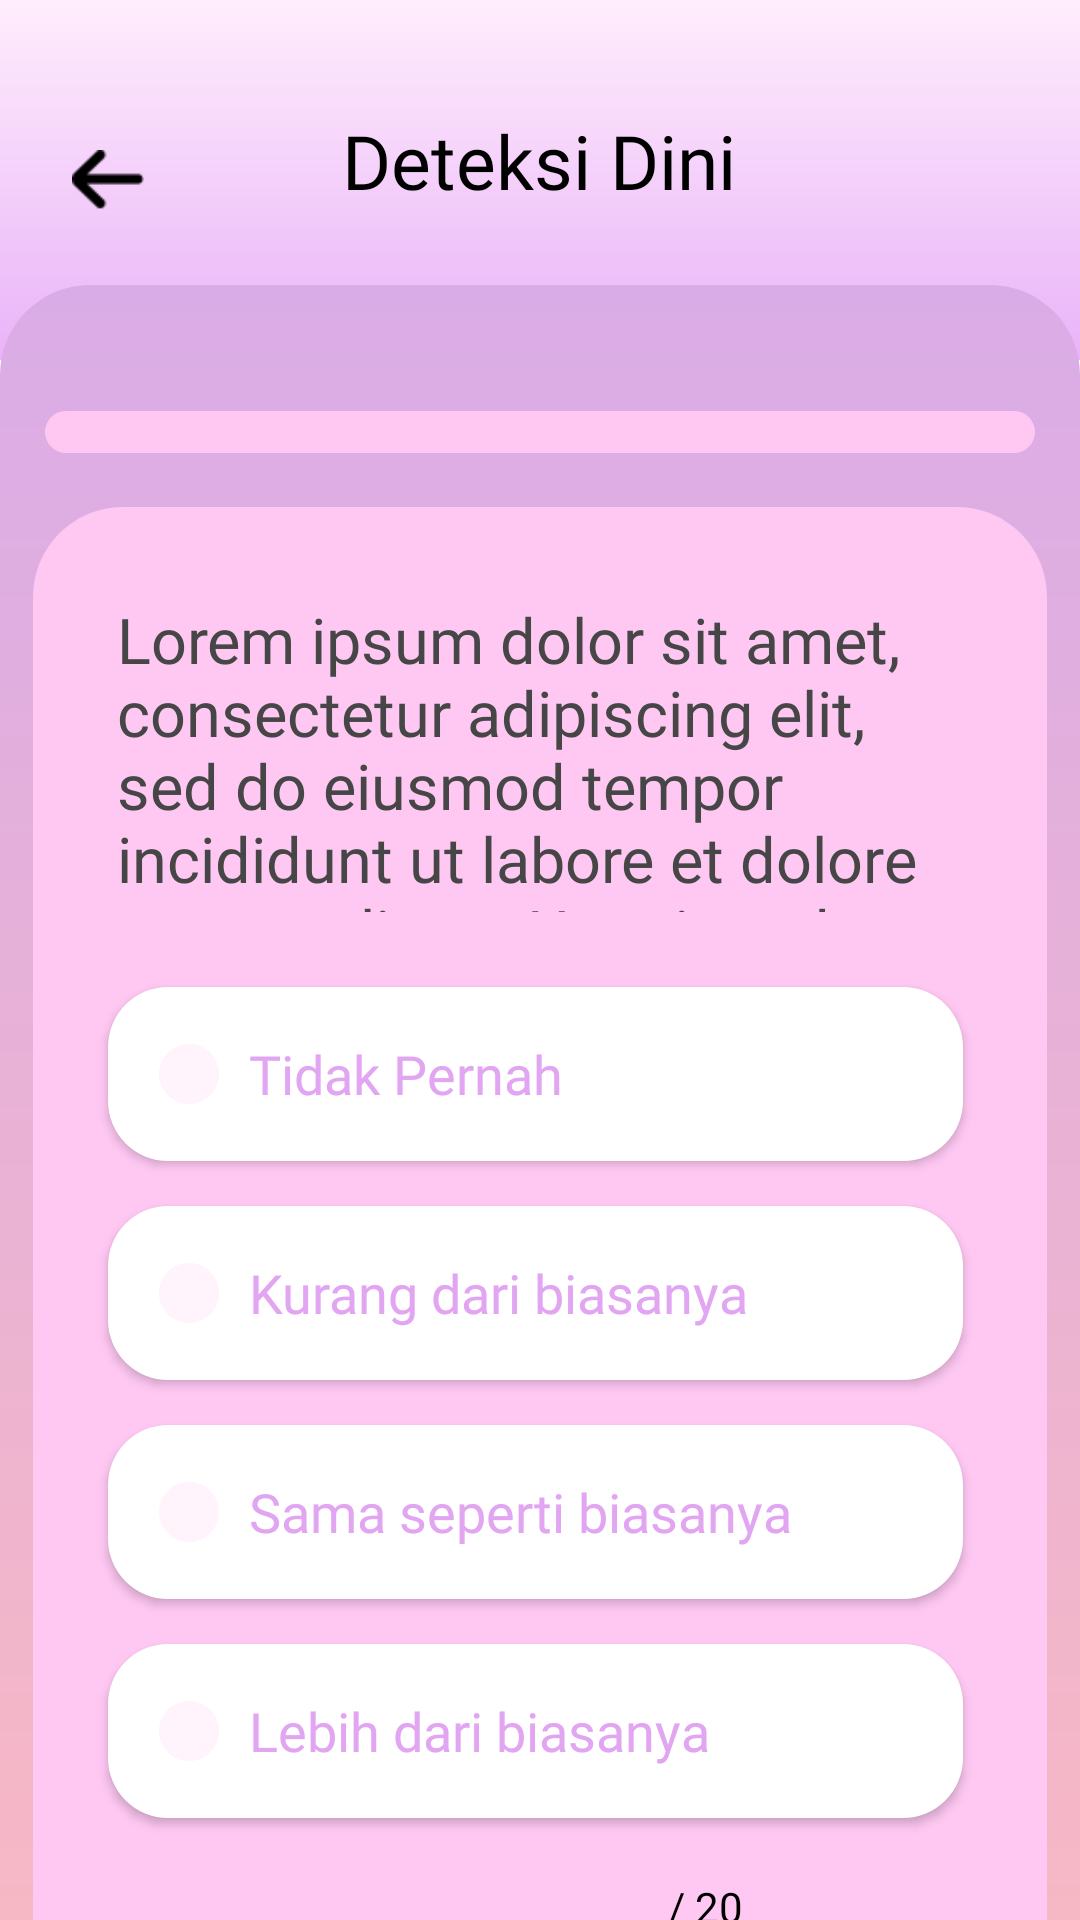

Icons on this 1080 x 1920 Android screen, each with its box as detection(x1, y1, x2, y2):
back: detection(72, 150, 144, 209)
